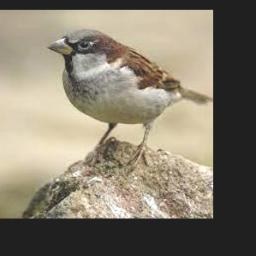Sparrow: (46, 29, 213, 167)
